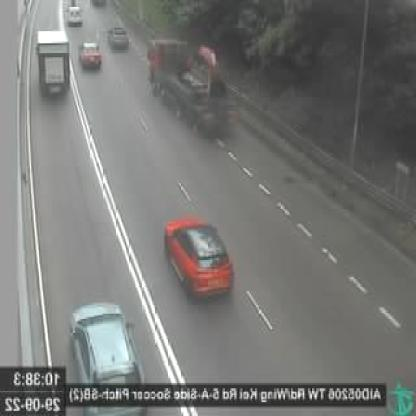Car: (69, 296, 148, 411), (154, 211, 240, 302), (78, 33, 105, 76), (108, 23, 136, 50), (59, 0, 88, 24)
Truck: (145, 36, 240, 137), (33, 24, 76, 108)
